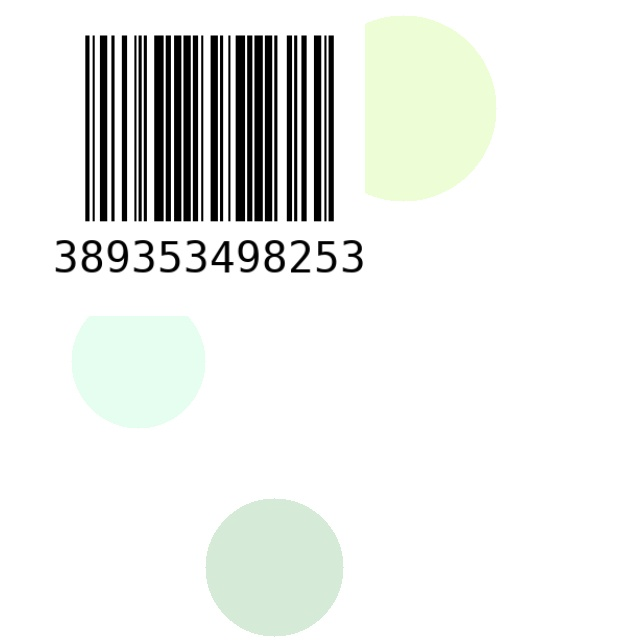barcode: (54, 24, 365, 316)
